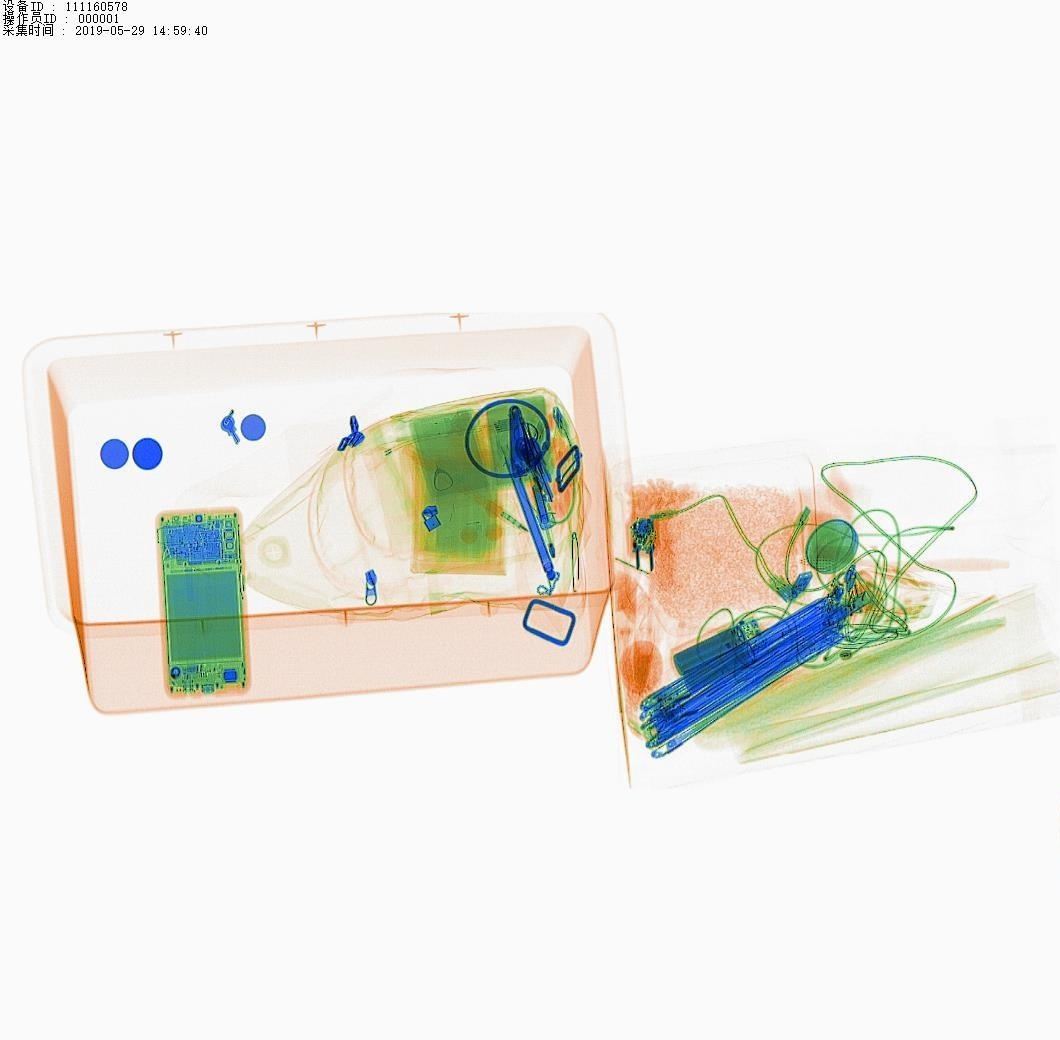NonmetallicFire: (509, 423, 576, 564)
